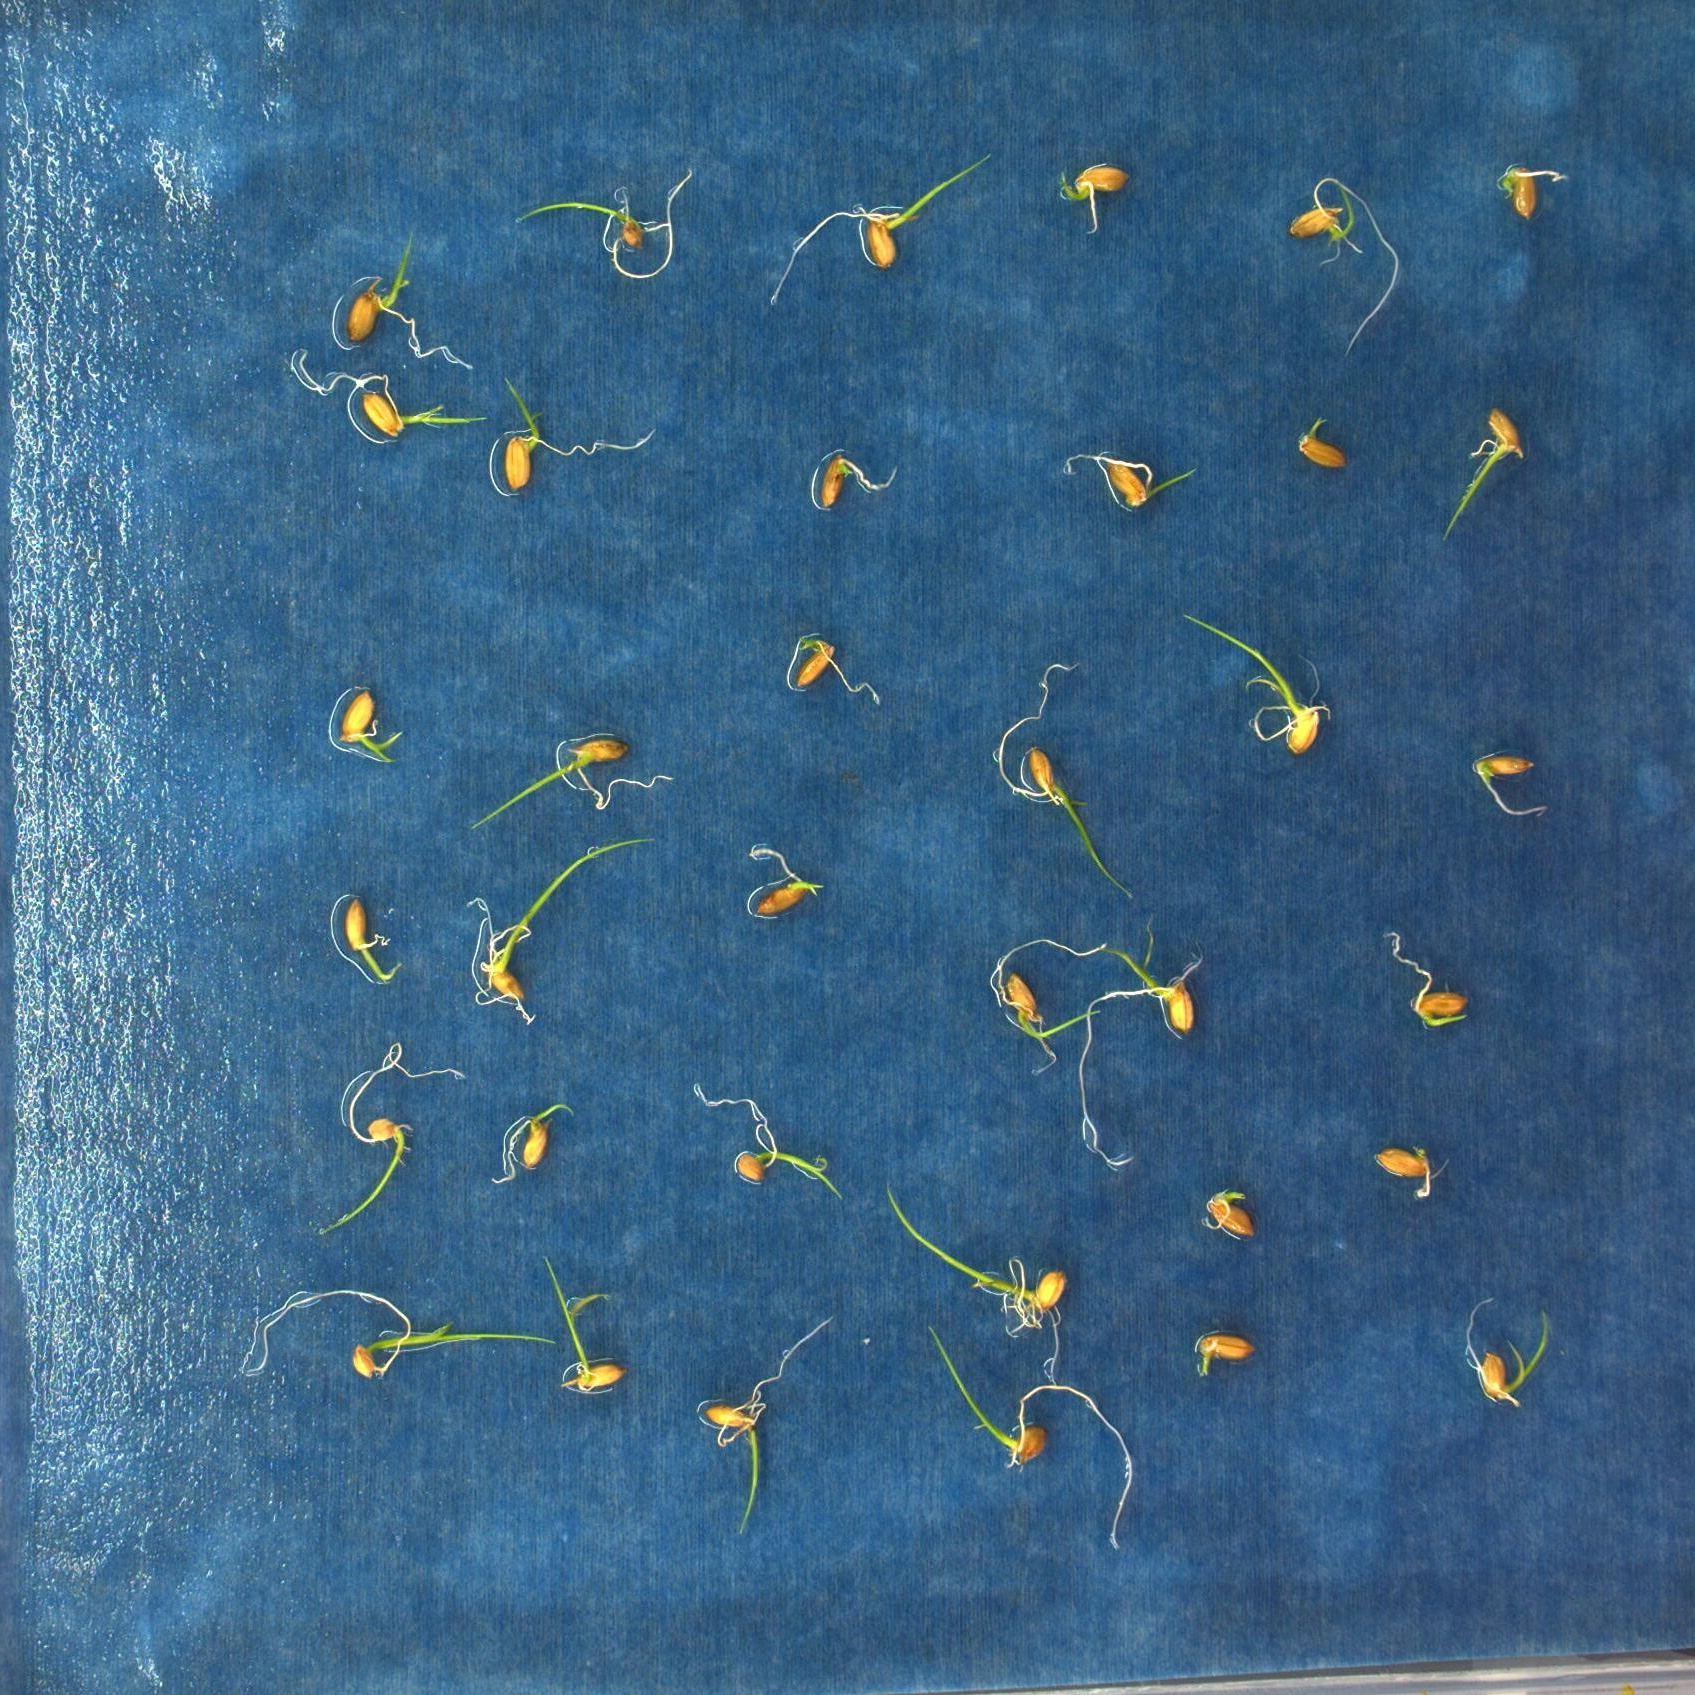not sprout: (793, 633, 879, 705), (748, 847, 823, 917), (1471, 751, 1546, 820), (820, 456, 899, 511), (1375, 1146, 1433, 1201), (1198, 1332, 1257, 1378)
sprout: (927, 1324, 1135, 1548), (885, 1178, 1069, 1386), (466, 838, 658, 1026), (771, 151, 993, 306), (1079, 914, 1205, 1172), (998, 663, 1133, 899), (705, 1312, 834, 1538), (321, 1038, 466, 1236), (245, 1290, 557, 1375), (1184, 612, 1330, 754), (1290, 175, 1402, 360), (515, 171, 694, 279), (470, 736, 674, 827), (346, 227, 473, 371), (694, 1080, 844, 1198), (504, 377, 658, 490), (298, 349, 487, 438), (989, 941, 1108, 1073), (543, 1256, 632, 1391), (1439, 408, 1524, 542), (1465, 1298, 1551, 1406), (1383, 927, 1471, 1031), (1066, 453, 1198, 508), (490, 1101, 573, 1186), (1062, 165, 1132, 234), (1498, 160, 1571, 225), (340, 691, 404, 765), (345, 899, 400, 979), (1201, 1191, 1257, 1239), (1299, 414, 1346, 470)
